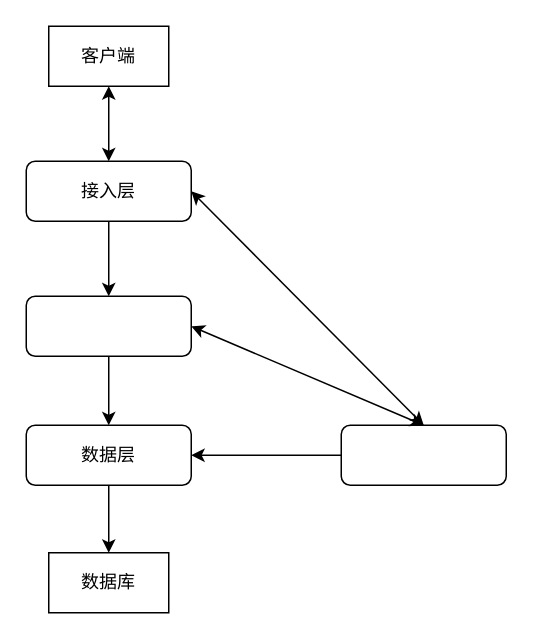
Image size: 533x639. Some labels were removed from this diagram. The centre of each missing label's shape, as x and y in pixels:
路由层: pixel 423 454
逻辑层: pixel 108 325
